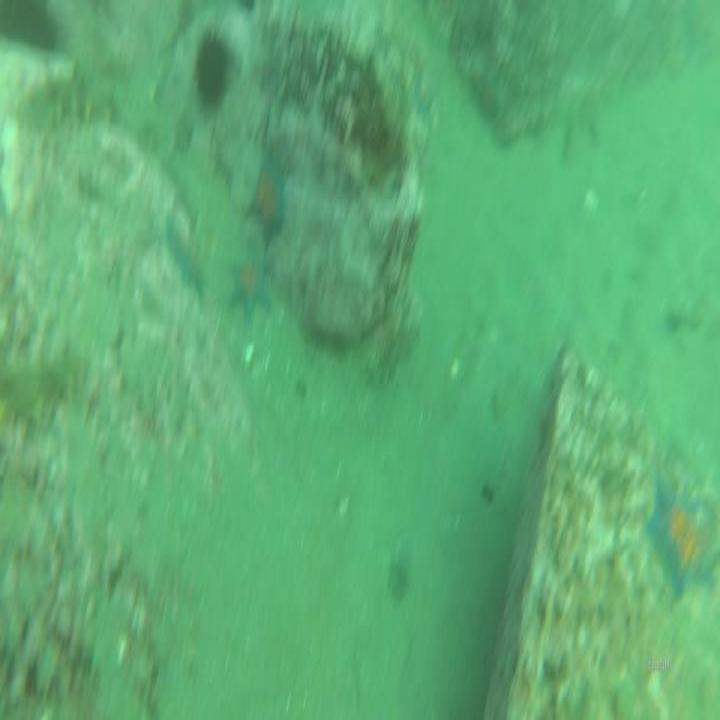echinus: (190, 25, 238, 114)
holothurian: (2, 348, 90, 441), (42, 55, 122, 135)
starfish: (646, 476, 720, 604), (226, 252, 274, 329), (164, 219, 208, 302), (249, 158, 288, 242)
